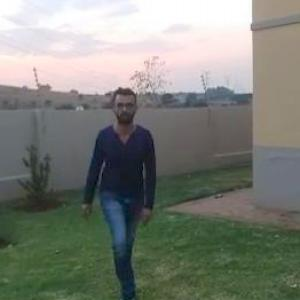follow: (89, 80, 155, 299)
